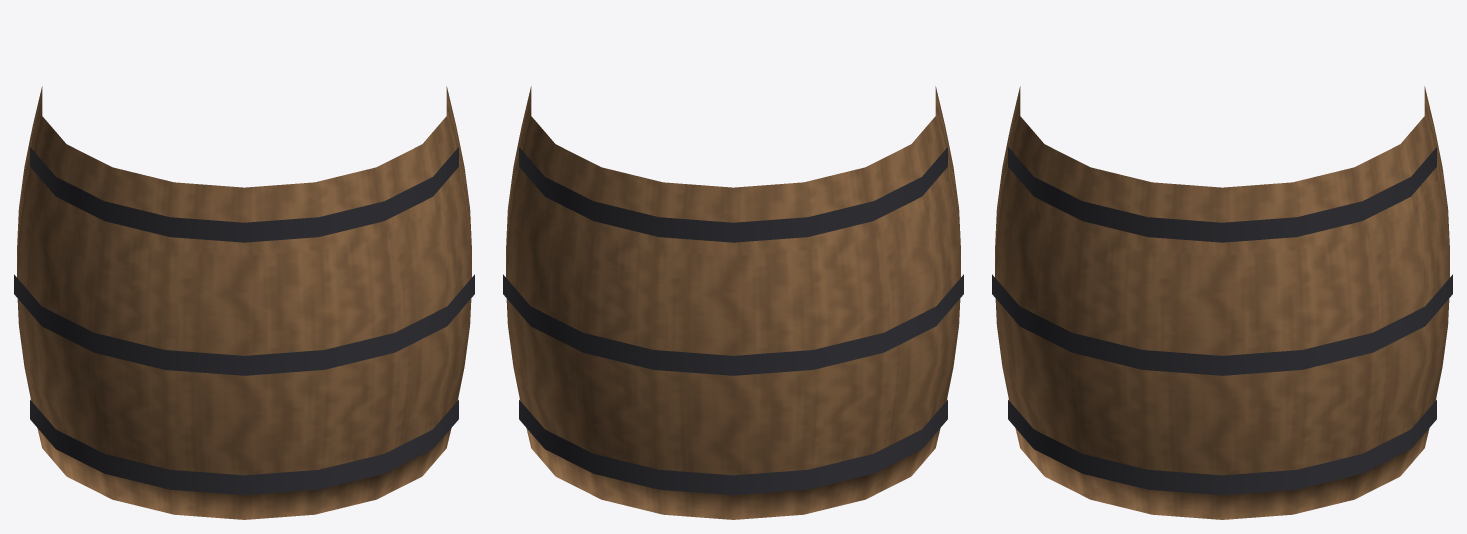
Rendered from barrel.glb.
The picture shows the model from 3 angles, left to right: view 1: azimuth 30°, elevation 25°; view 2: azimuth 150°, elevation 25°; view 3: azimuth 270°, elevation 25°; orthographic projection.
Visible parts, largest first — view 1: barrel; view 2: barrel; view 3: barrel.
Boxes of the visible parts, x1=… form: barrel: x1=14, y1=86, x2=474, y2=519; barrel: x1=503, y1=86, x2=963, y2=519; barrel: x1=992, y1=86, x2=1452, y2=519.
Bounding box in the file's own units: 1.28 × 1 × 1.26.
Materials: 2 (1 with a texture image).
